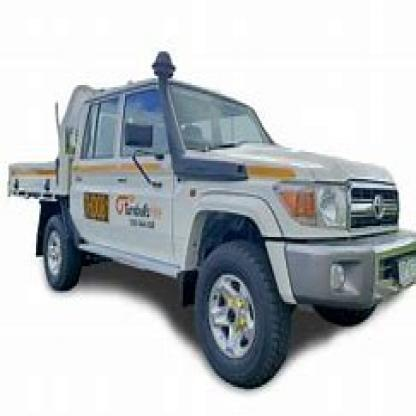light_vehicle: (2, 63, 414, 394)
